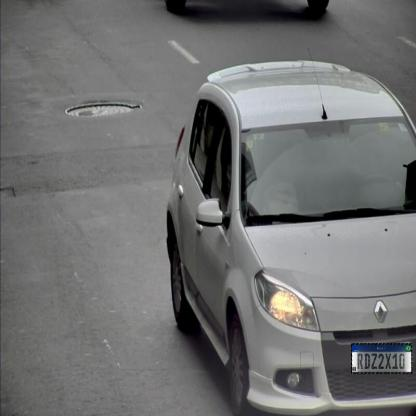PlacaM: (351, 343, 412, 374)
